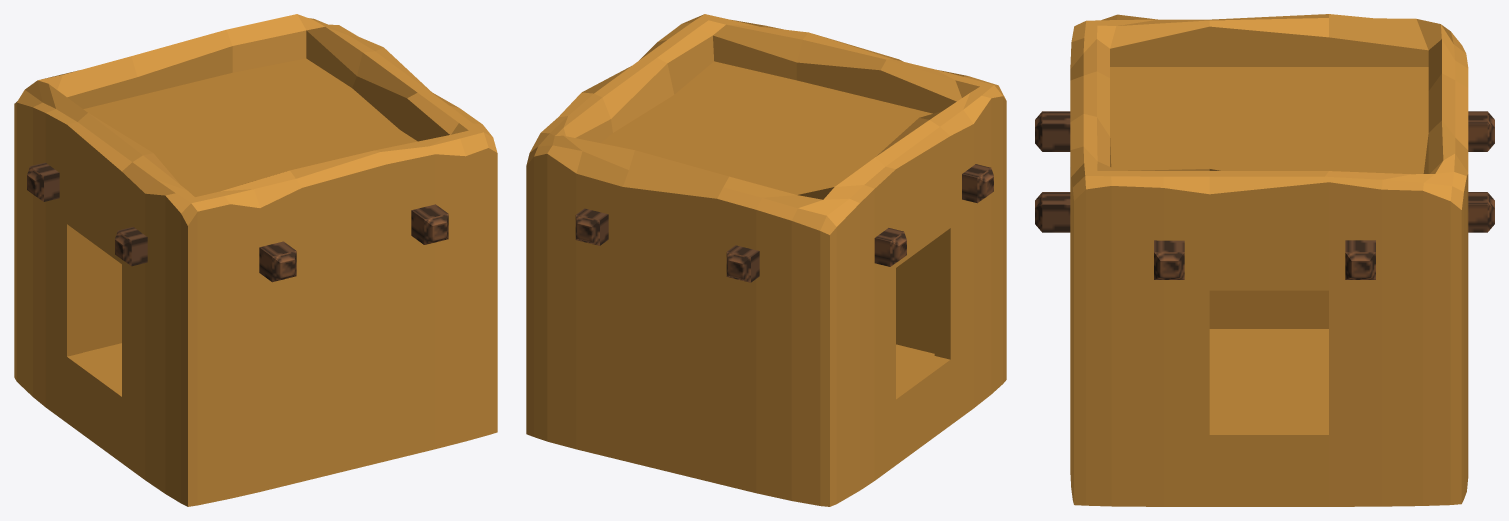
Rendered from Building_S2.fbx.
3 views of the same model, side by side, from view 1: azimuth 30°, elevation 25°; view 2: azimuth 150°, elevation 25°; view 3: azimuth 270°, elevation 25° (orthographic). The views are drawn at different scales.
Visible parts, largest first — view 1: Plane.007; view 2: Plane.007; view 3: Plane.007.
Part boxes in pixels (bbox=[...]): Plane.007: bbox=[14, 14, 497, 506]; Plane.007: bbox=[526, 14, 1006, 506]; Plane.007: bbox=[1035, 14, 1494, 506].
Size of the model in its own units: 115 by 92.02 by 115.
